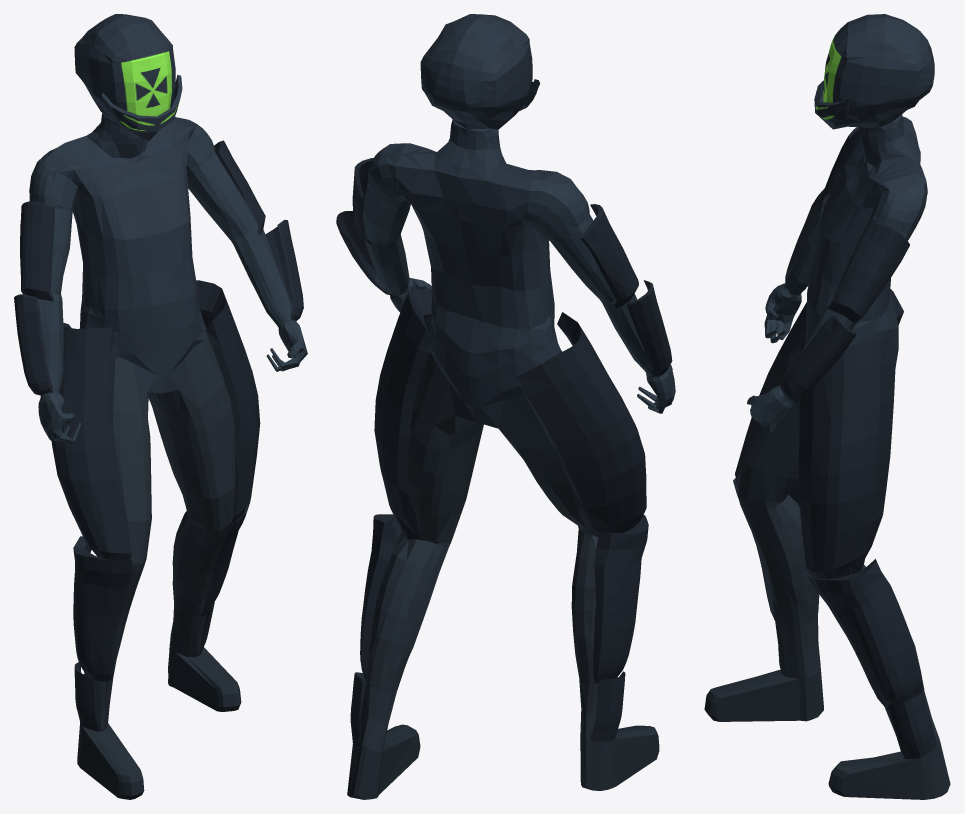
The model's file is Bastion_Stun_000013.obj.
The picture shows the model from 3 angles, left to right: view 1: azimuth 30°, elevation 25°; view 2: azimuth 150°, elevation 25°; view 3: azimuth 270°, elevation 25°; orthographic projection. The views are drawn at different scales.
Visible parts, largest first — view 1: Cube.002; view 2: Cube.002; view 3: Cube.002.
Boxes of the visible parts, x1,y1,x2,y2 form: Cube.002: [14, 14, 307, 799]; Cube.002: [336, 14, 675, 799]; Cube.002: [704, 14, 950, 799].
Bounding box in the file's own units: 1.58 × 3.77 × 1.14.
